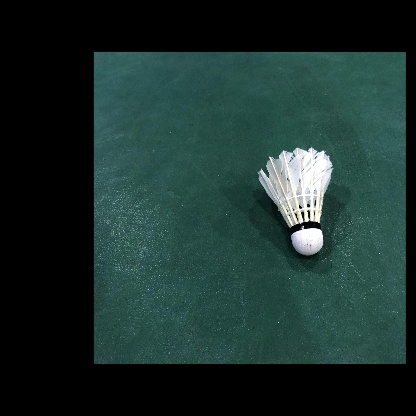ball_single: (258, 147, 333, 256)
